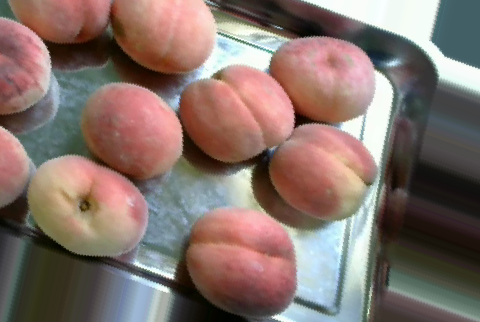Peach: (26, 154, 148, 259), (184, 206, 298, 317), (181, 65, 293, 162), (265, 124, 377, 220), (82, 81, 183, 179), (267, 36, 377, 121), (108, 1, 217, 74), (0, 15, 50, 118)
